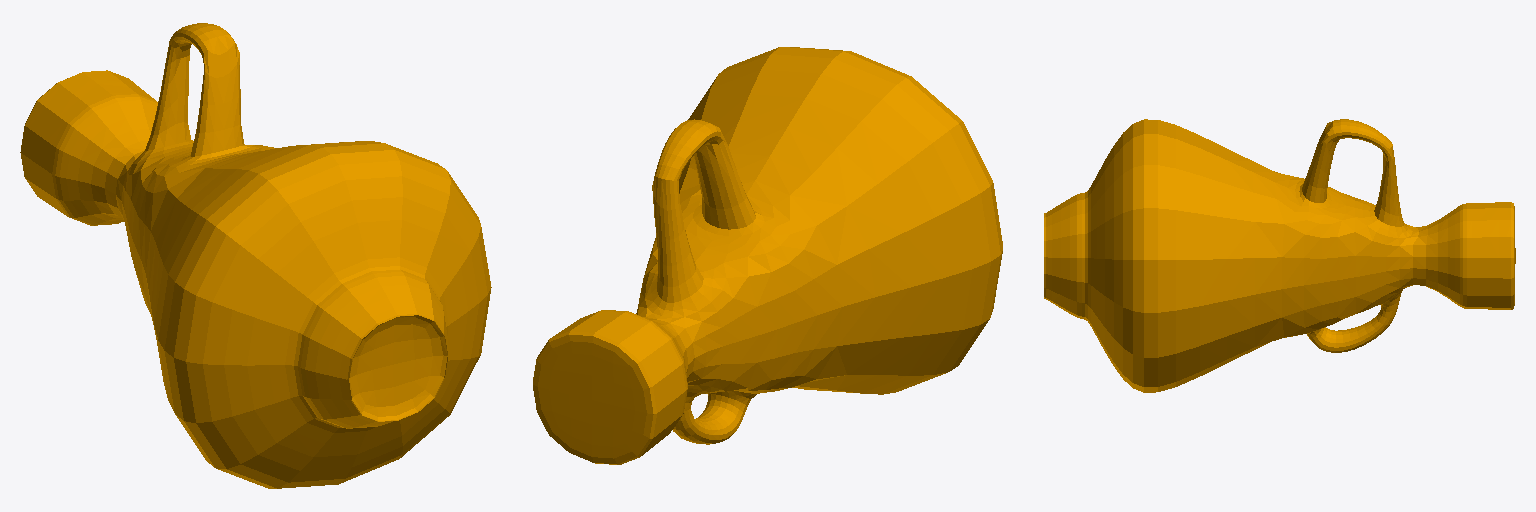
robot.urdf — 13:
<?xml version="1.0" ?>
<robot name="13">
  <link name="body">
    <visual>
      <geometry>
        <mesh filename="../shapes/13.obj"/>
      </geometry>
    </visual>
    <collision>
      <geometry>
        <mesh filename="../shapes/13.obj"/>
      </geometry>
    </collision>
  </link>
</robot>

--- Render facts (derived) ---
3 views of the same robot in one strip: view 1: azimuth 30°, elevation 25°; view 2: azimuth 150°, elevation 25°; view 3: azimuth 270°, elevation 25° (orthographic).
Model 13 with 1 links and 0 joints (none), rooted at body, posed every joint at zero.
Visible links, largest first — view 1: body; view 2: body; view 3: body.
Link boxes in pixels (bbox=[...]): body: bbox=[20, 23, 491, 488]; body: bbox=[533, 47, 1002, 464]; body: bbox=[1044, 119, 1515, 392].
Size in the robot's own frame: 6.75 by 11.8 by 7.21 metres.
Meshes: 1 distinct files referenced, 1 mesh visuals loaded (1 OBJ).